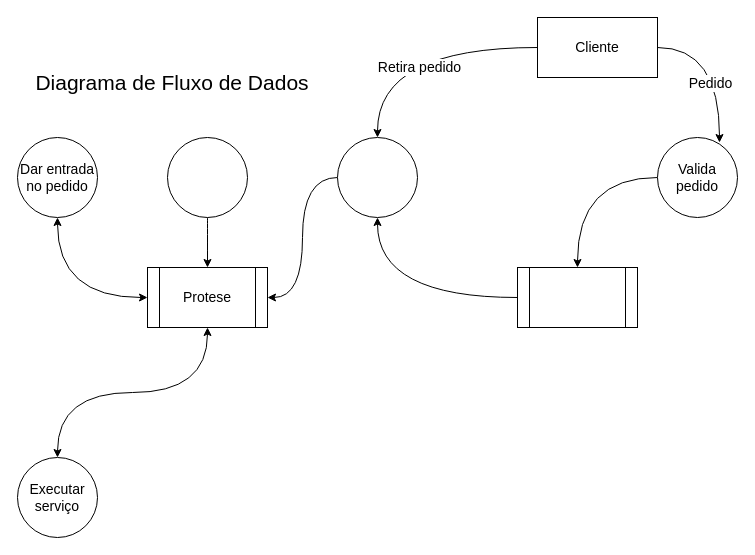
Image size: 755x555. Some labels were removed from this diagram. The shapes that lost their labels are listed below. From the top down, each one's centre as x and y in pixels, then its label:
point 207,177: Dar saída no pedido
point 377,177: Retirar pedido
point 577,297: Agendamento
